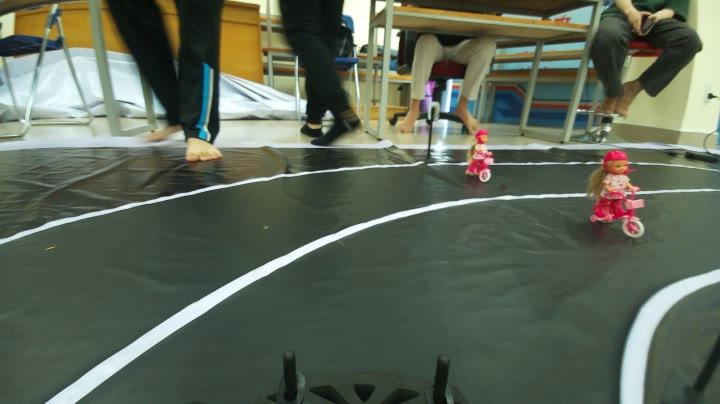pedestrian: (576, 148, 652, 238), (462, 126, 496, 174)
